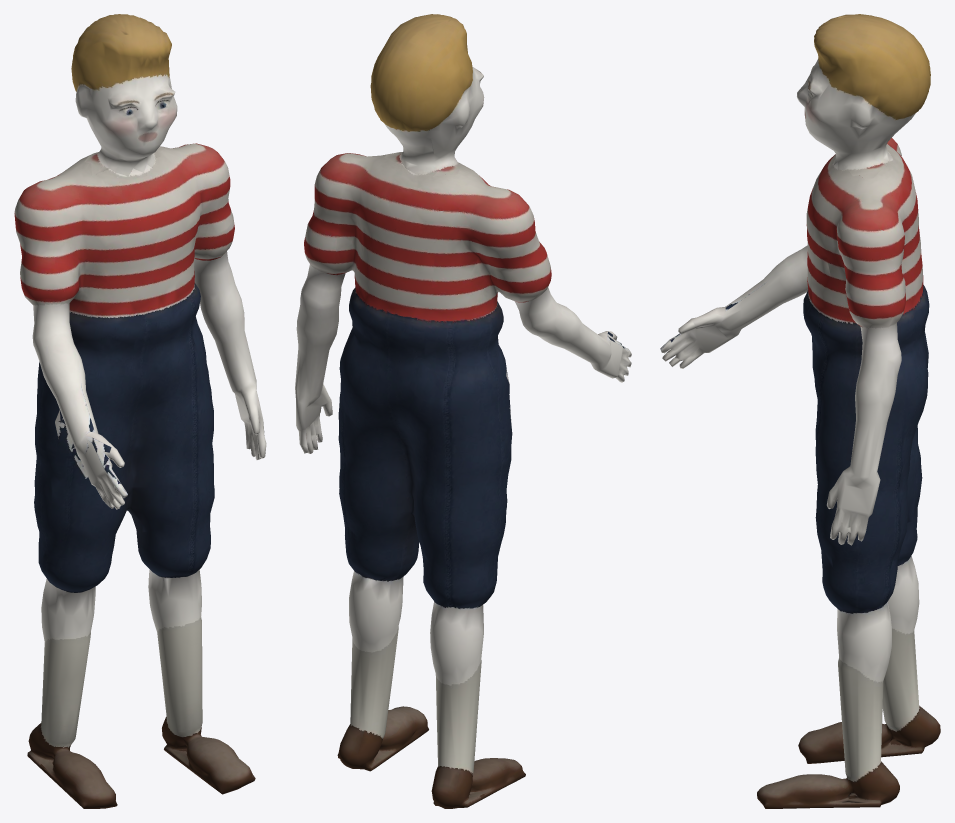
Rendered from mq_child_stand.glb.
3 views of the same model, side by side, from view 1: azimuth 30°, elevation 25°; view 2: azimuth 150°, elevation 25°; view 3: azimuth 270°, elevation 25° (orthographic).
Visible parts, largest first — view 1: mq_child_stand, mq_child_stand_head; view 2: mq_child_stand, mq_child_stand_head; view 3: mq_child_stand, mq_child_stand_head.
Boxes of the visible parts, x1,y1,x2,y2 form: mq_child_stand: (14,143,266,808); mq_child_stand_head: (71,14,177,176); mq_child_stand: (295,153,631,808); mq_child_stand_head: (370,14,484,176); mq_child_stand: (660,138,940,808); mq_child_stand_head: (797,14,930,179).
Bounding box in the file's own units: 0.4283 × 1.26 × 0.4213.
1 material, 1 textured.
